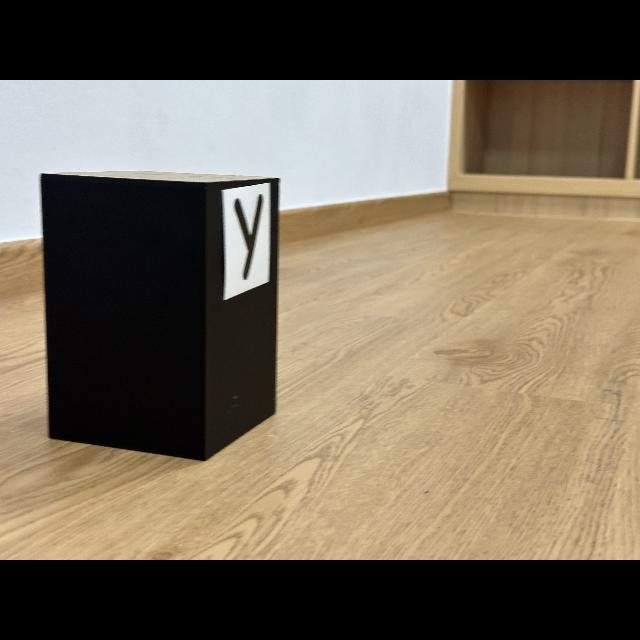Y: (234, 194, 262, 280)
